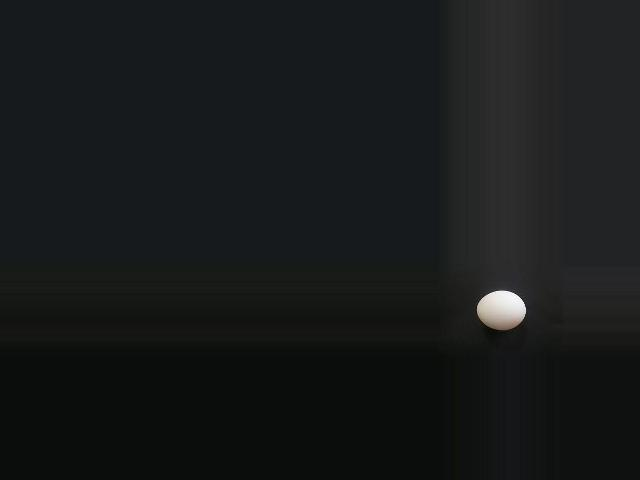egg: (475, 290, 524, 330)
